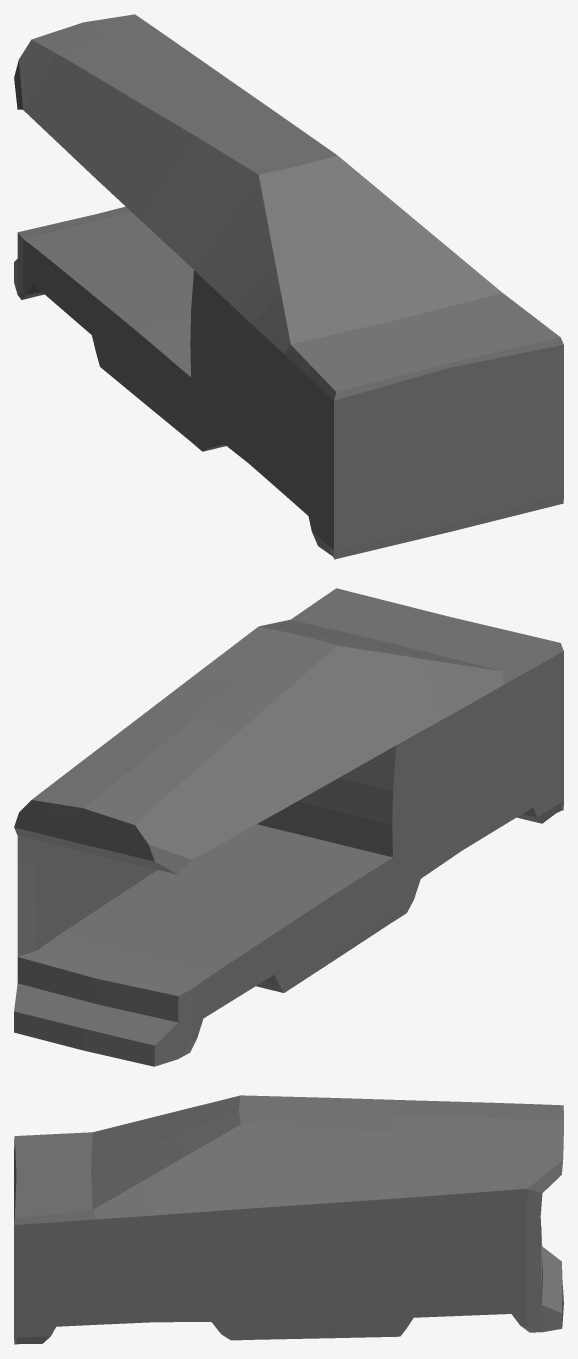
Rendered from TrainEngineEmpty.fbx.
3 renders of one model, top to bottom at view 1: azimuth 30°, elevation 25°; view 2: azimuth 150°, elevation 25°; view 3: azimuth 270°, elevation 25°, orthographic. The views are drawn at different scales.
Parts seen in each view (by area): view 1: retopo_train:Group4832; view 2: retopo_train:Group4832; view 3: retopo_train:Group4832.
Boxes of the visible parts, box(x1,y1,x2,y2) form: retopo_train:Group4832: box(14, 14, 563, 559); retopo_train:Group4832: box(14, 588, 563, 1066); retopo_train:Group4832: box(14, 1095, 563, 1344).
Size of the model in its own units: 3.36 by 3.59 by 9.27.
Materials: 1 (1 with a texture image).
